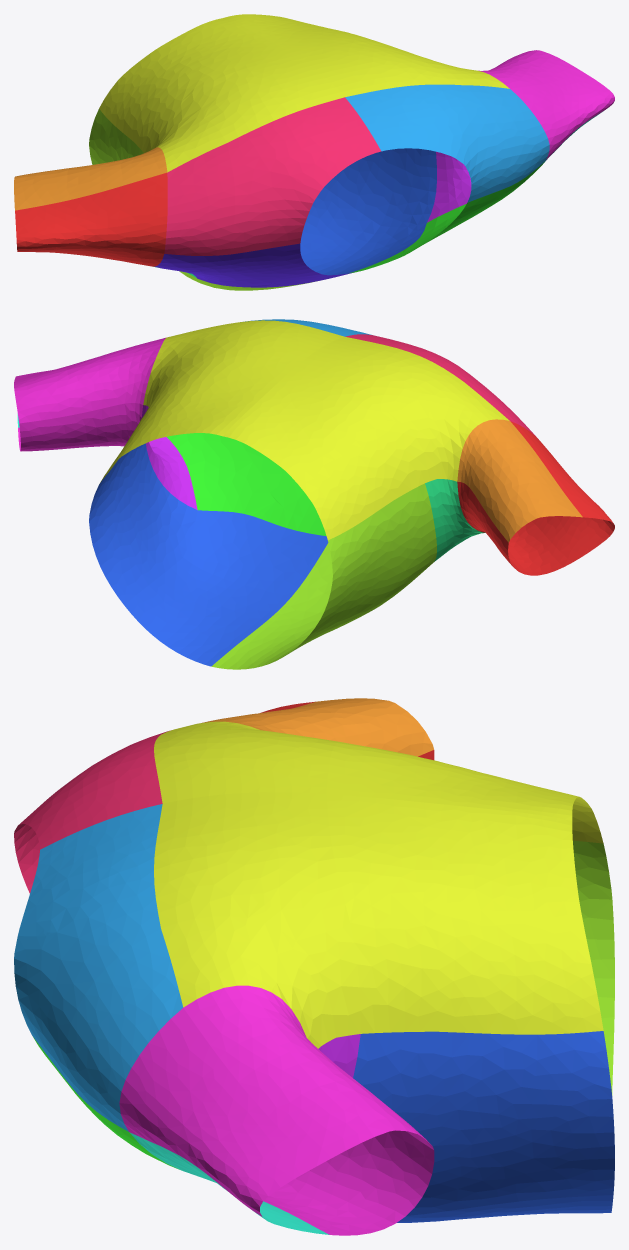
File: shirts_garmentB.obj
The picture shows the model from 3 angles, top to bottom: view 1: azimuth 30°, elevation 25°; view 2: azimuth 150°, elevation 25°; view 3: azimuth 270°, elevation 25°; orthographic projection. The views are drawn at different scales.
Parts seen in each view (by area): view 1: shirts_garmentB; view 2: shirts_garmentB; view 3: shirts_garmentB.
Part boxes in pixels (left/top/right/bottom): shirts_garmentB: left=14, top=14, right=614, bottom=290; shirts_garmentB: left=14, top=319, right=614, bottom=669; shirts_garmentB: left=14, top=698, right=614, bottom=1235.
Bounding box in the file's own units: 1088 × 415 × 564.
